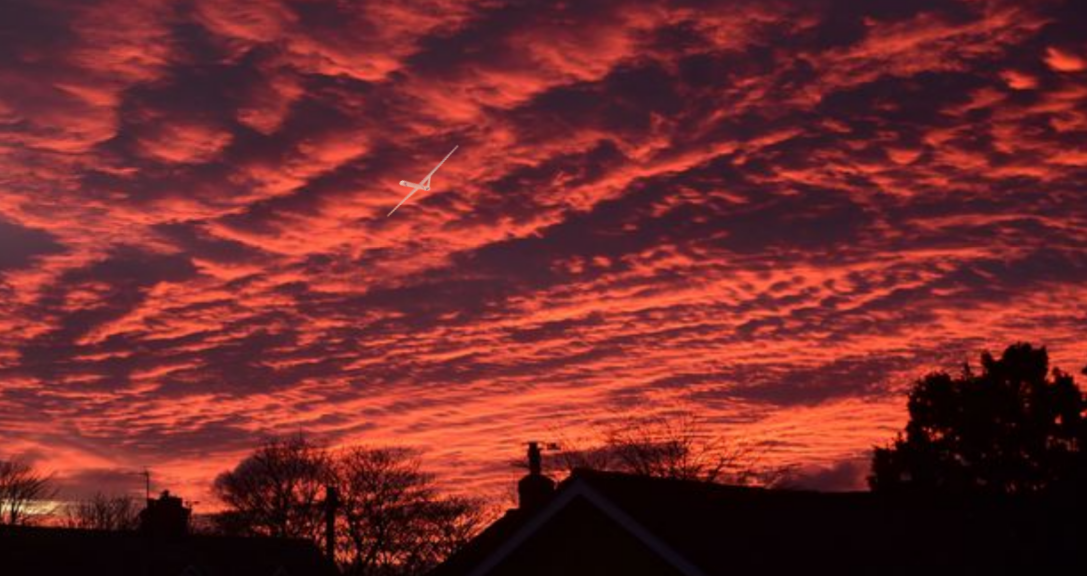military drone: (386, 144, 458, 217)
